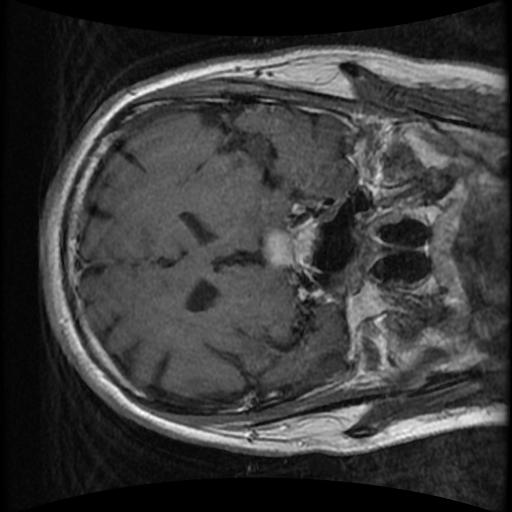pituitary tumour: (261, 229, 314, 268)
